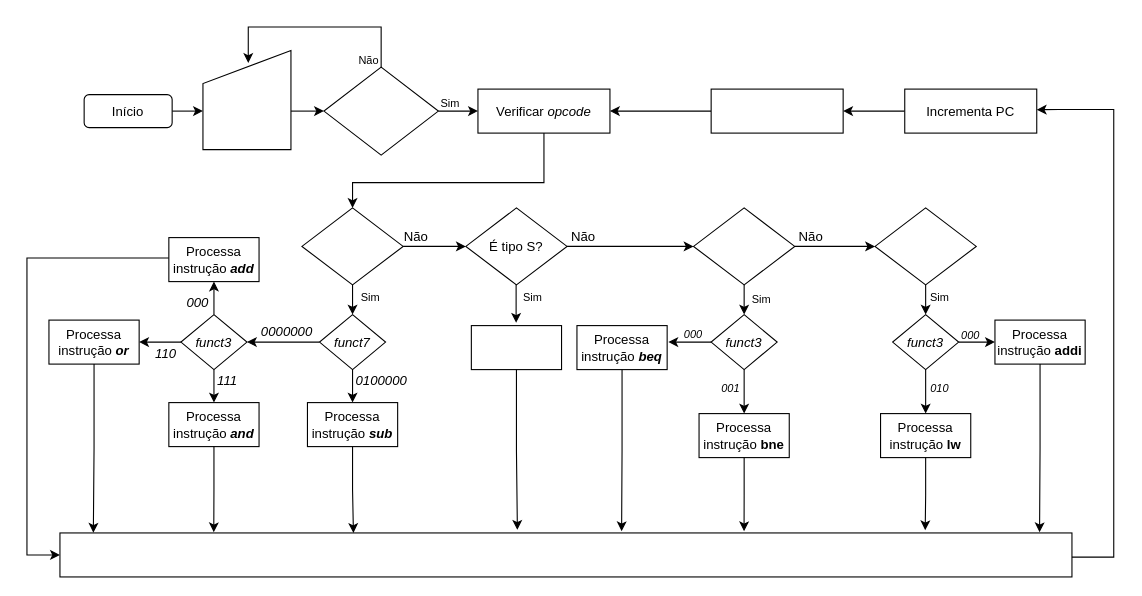
The diagram is 1142 pixels wide and 596 high, and some of its shapes have lost their labels. Each missing label, with the centre of its shape:
"Bloco binário é valido?" goes at (x=380, y=110).
"Caminha para próxima instrução" goes at (x=776, y=110).
"Entrar com bloco de binários" goes at (x=246, y=100).
"Processa instrução sw" goes at (x=516, y=347).
"Terminou de processar instrução" goes at (x=565, y=554).
"É tipo B?" goes at (x=743, y=246).
"É tipo I?" goes at (x=925, y=246).
"É tipo R?" goes at (x=352, y=246).
